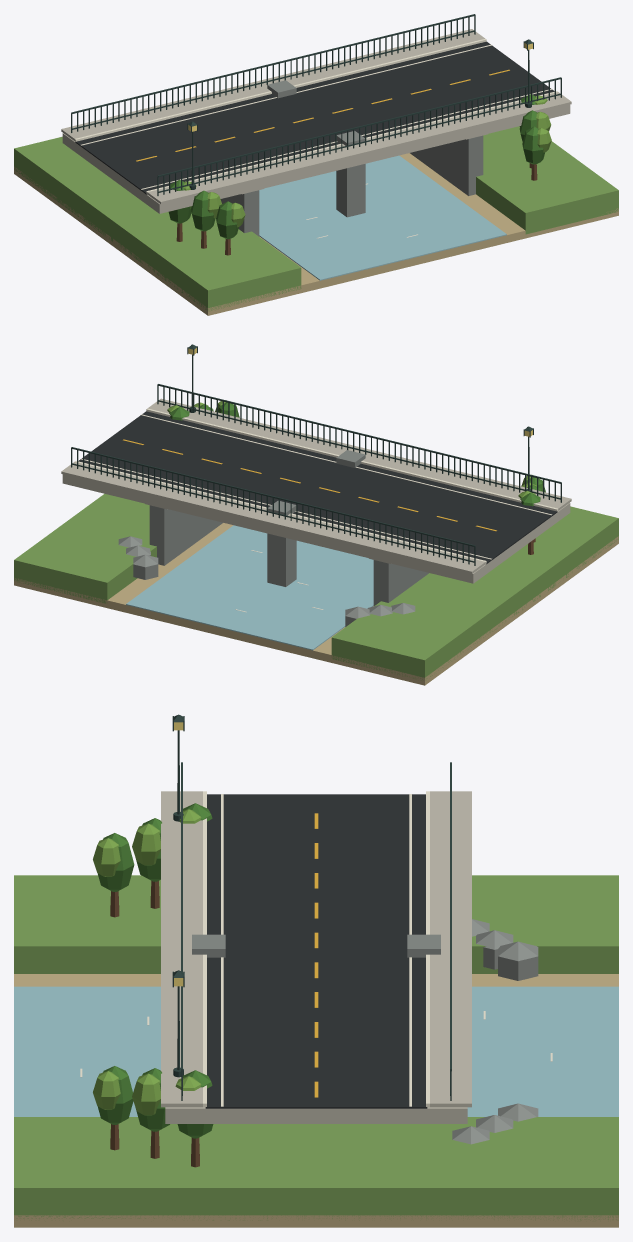
The model's file is 09_Bridge.obj.
3 renders of one model, top to bottom at view 1: azimuth 30°, elevation 25°; view 2: azimuth 150°, elevation 25°; view 3: azimuth 270°, elevation 25°, orthographic. The views are drawn at different scales.
Visible parts, largest first — view 1: 09_Bridge; view 2: 09_Bridge; view 3: 09_Bridge.
Part boxes in pixels (x1=…): 09_Bridge: x1=14, y1=14, x2=618, y2=315; 09_Bridge: x1=14, y1=344, x2=618, y2=685; 09_Bridge: x1=14, y1=714, x2=618, y2=1227.
Bounding box in the file's own units: 22 × 7.51 × 18.
1 material, 1 textured.
